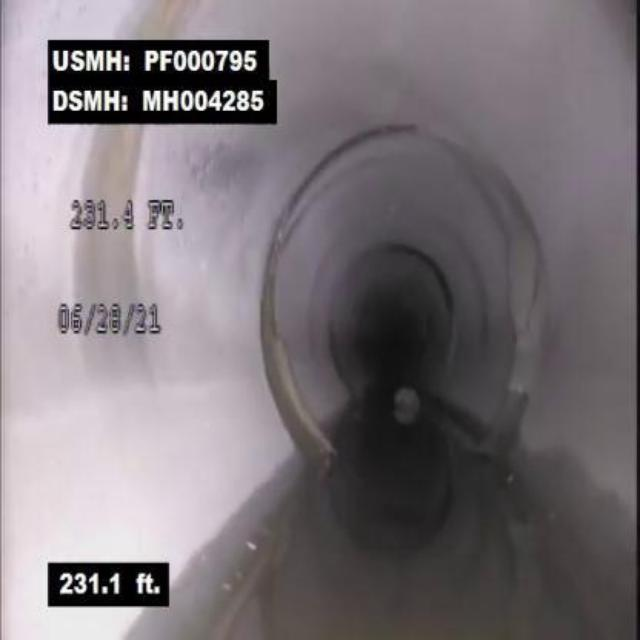Joint offset: (492, 174, 583, 482), (243, 203, 331, 498)
